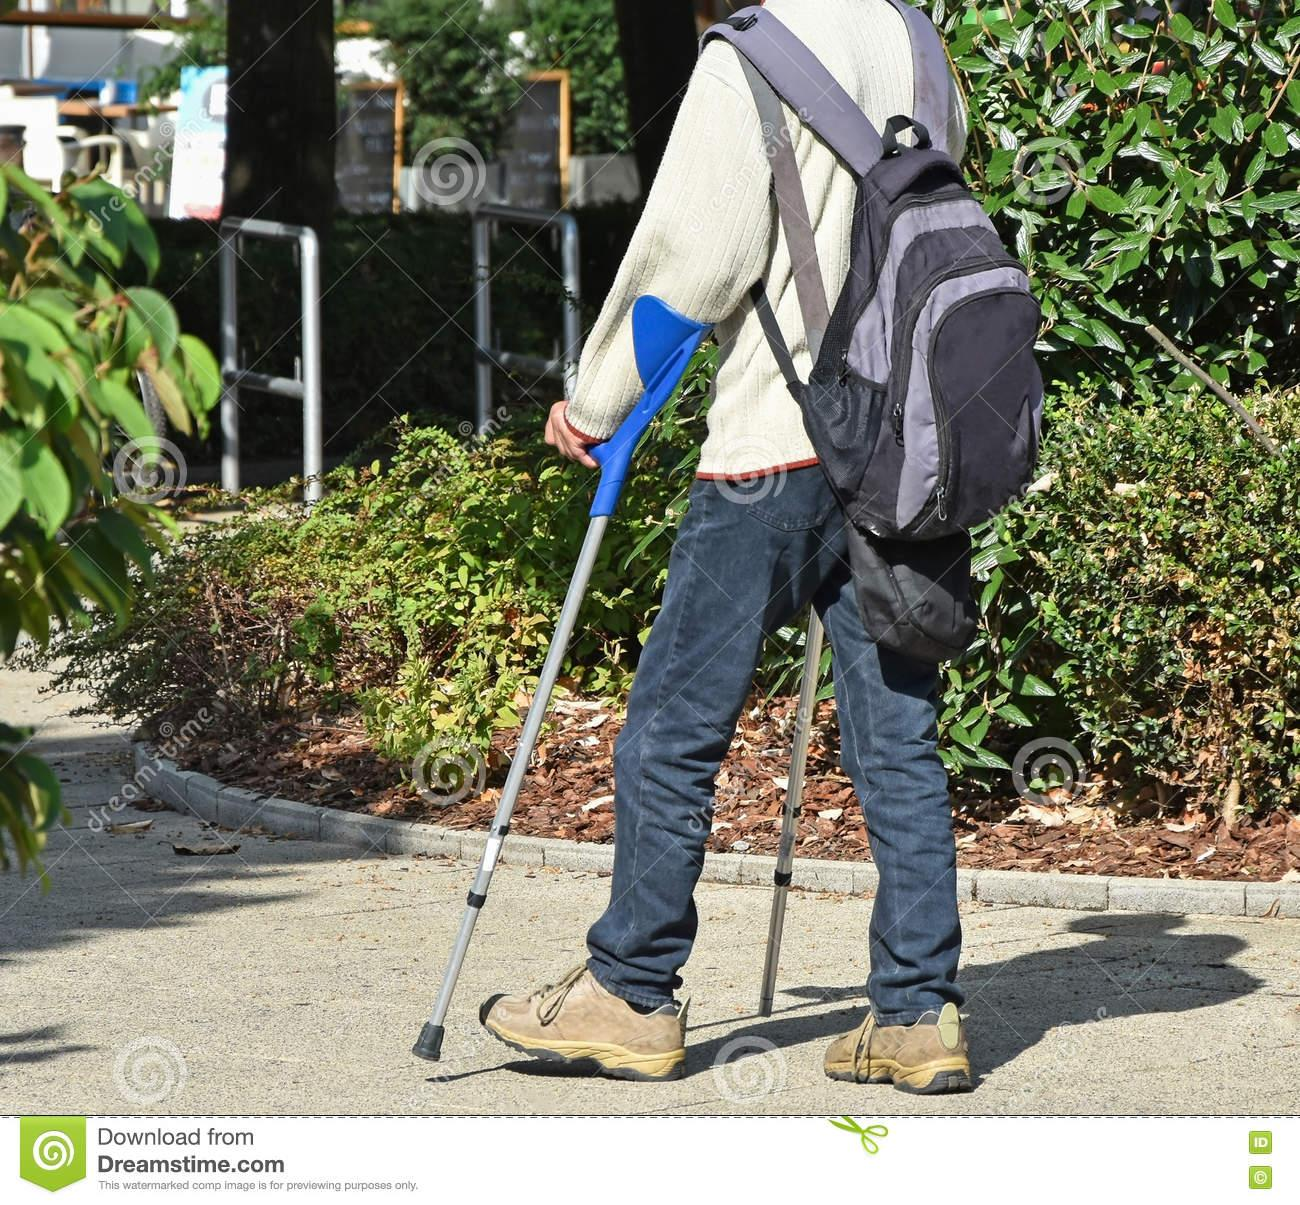crutches: (413, 0, 1044, 1096)
